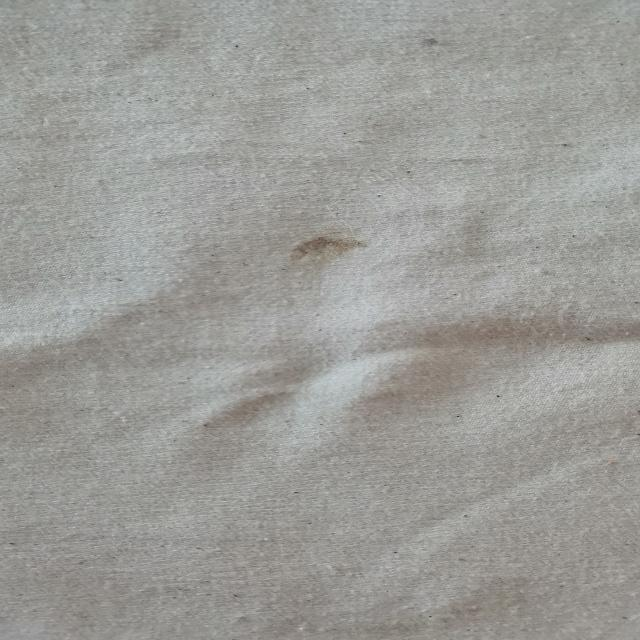taaaches: (96, 16, 202, 80), (266, 228, 372, 278), (407, 6, 499, 56)
